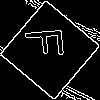F: (25, 25, 73, 60)
